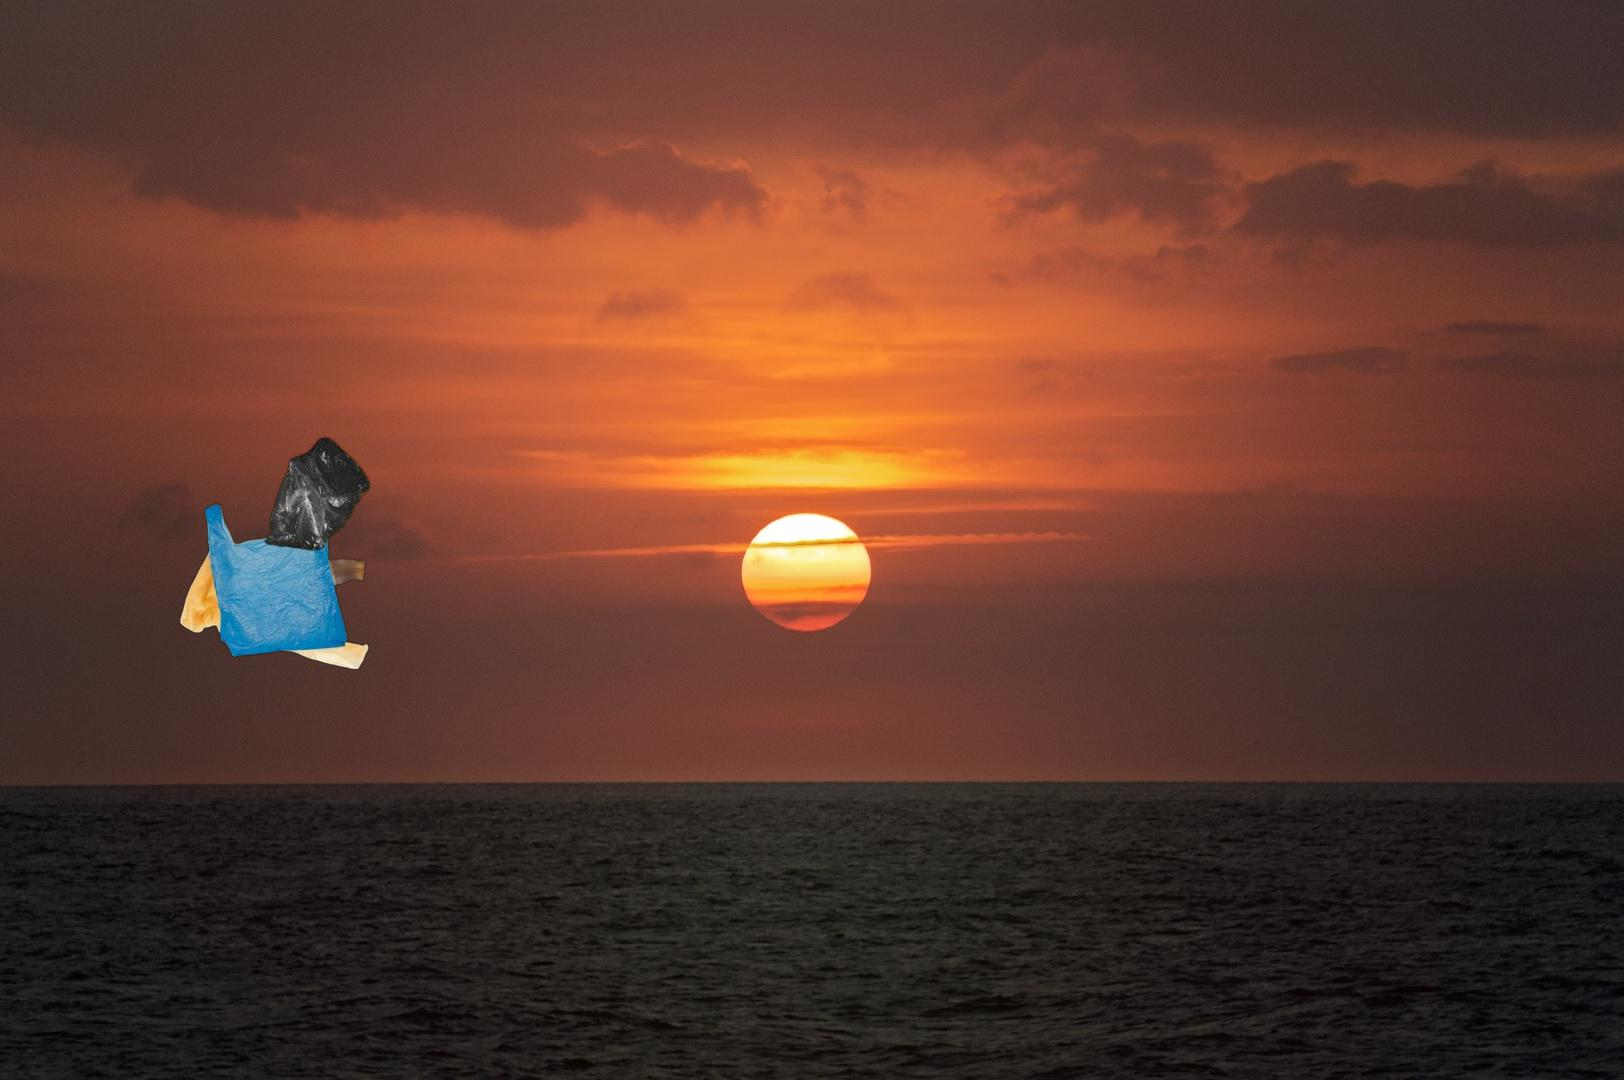plastic-bag: (177, 391, 373, 673)
